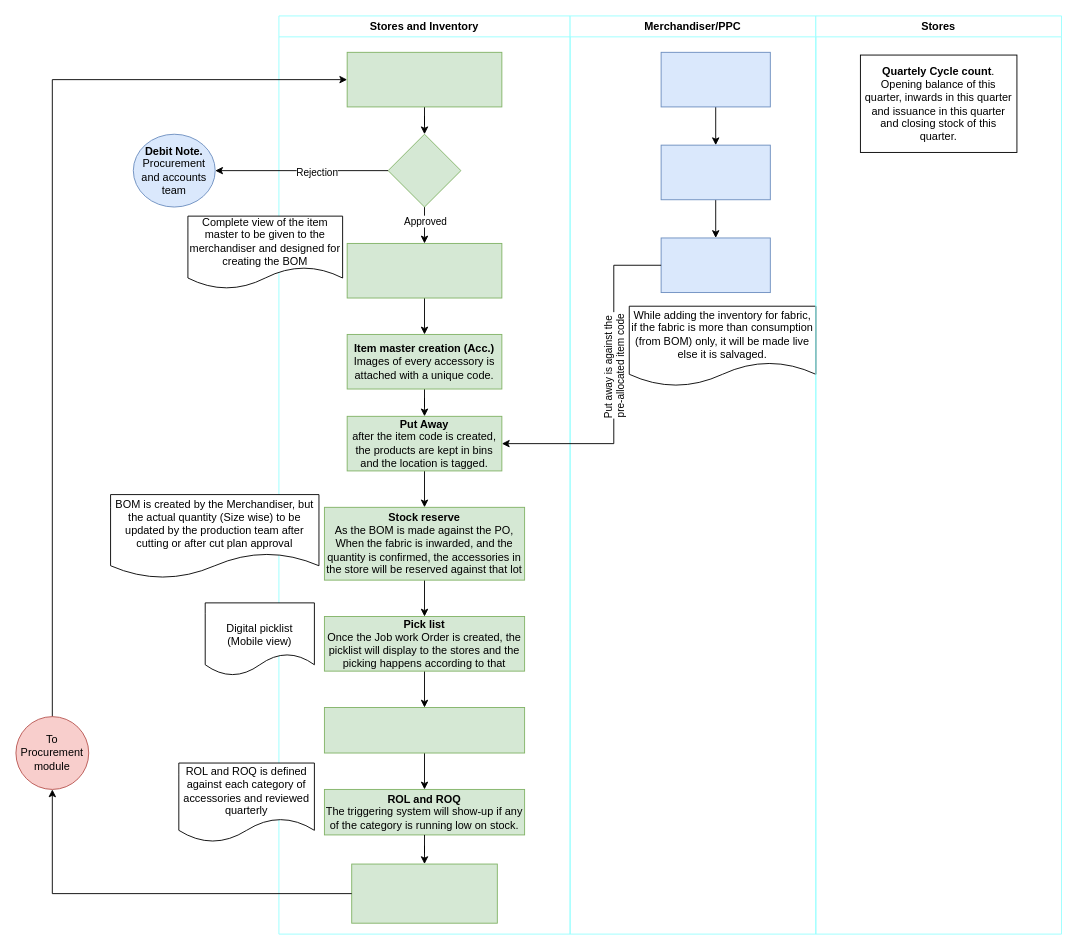
Image size: 1077x950. Some labels were removed from this diagram. The shapes that lost their labels are listed below. From the top down, each one's centre as x and y in pixels, then its label:
At pixel 424 79: "Inward of the Fabric / Accessories".
At pixel 715 79: "Return from Job worker.".
At pixel 424 170: "In-bound QC".
At pixel 715 172: "Resaon for return is noted. (Excess qty, etc)".
At pixel 424 270: "GRN GRN is against ASN.".
At pixel 715 265: "Add to Inventory (Fabric>consumption, and all accessories)".
At pixel 424 730: "Material Outward Real time inventory updates on the stock level.".
At pixel 424 893: "RFQ creation An auto RFQ is generated based on the ROL and ROQ".
